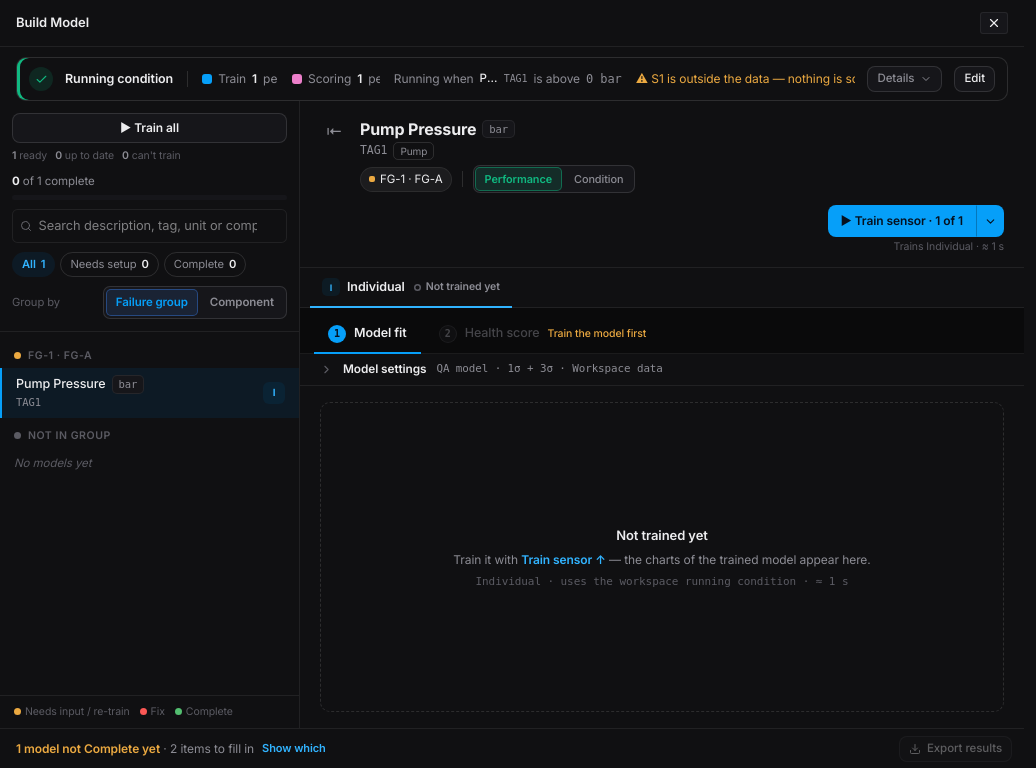
Test: (4) a slow Train that lands after its model or workspace is gone › workspace switched mid-train: the window keeps showing ONLY the new workspace's models
This screenshot has width=1036, height=768.
Check: the element with test id "rc-card" is shown, box [16,57,1008,101]
Click the button with test id "train-sensor".
click(902, 221)  # box [828,205,976,237]
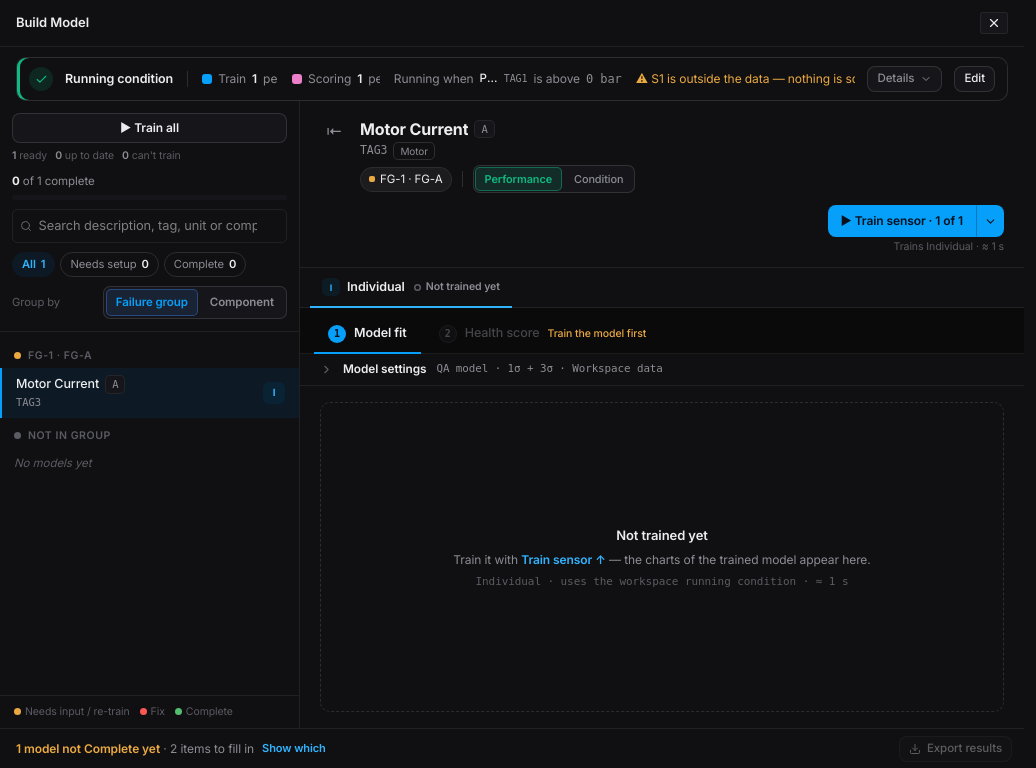
Check: the 1st text with class "sl-desc" reads "Motor Current", box [360,119,468,139]
